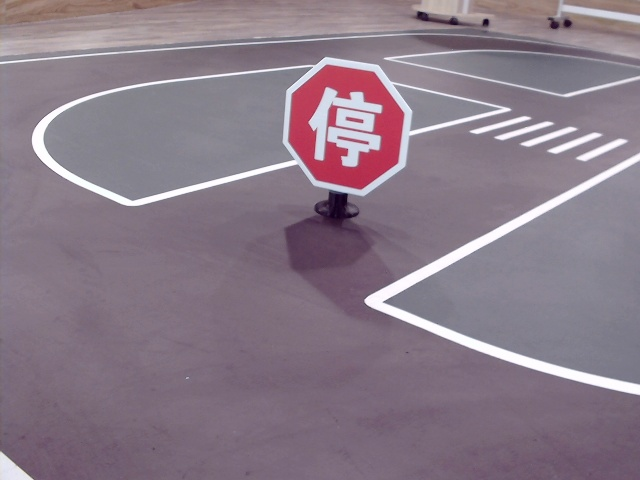stop: (304, 82, 380, 166)
